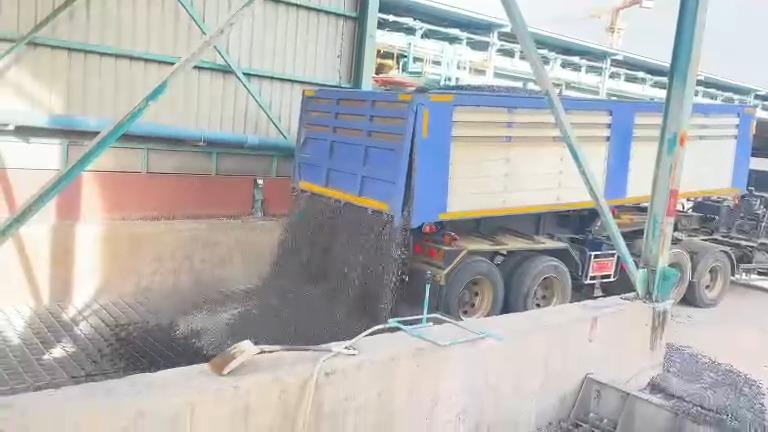gravel: (203, 195, 404, 352), (649, 344, 767, 431)
